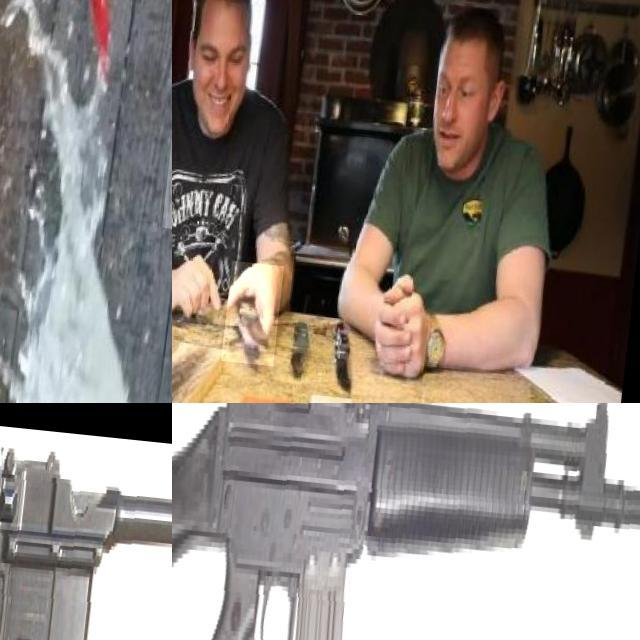-: (232, 256, 293, 360)
gun-knife-thesis - v11 Yolov5 augmented: (172, 403, 640, 640), (0, 403, 172, 640)
